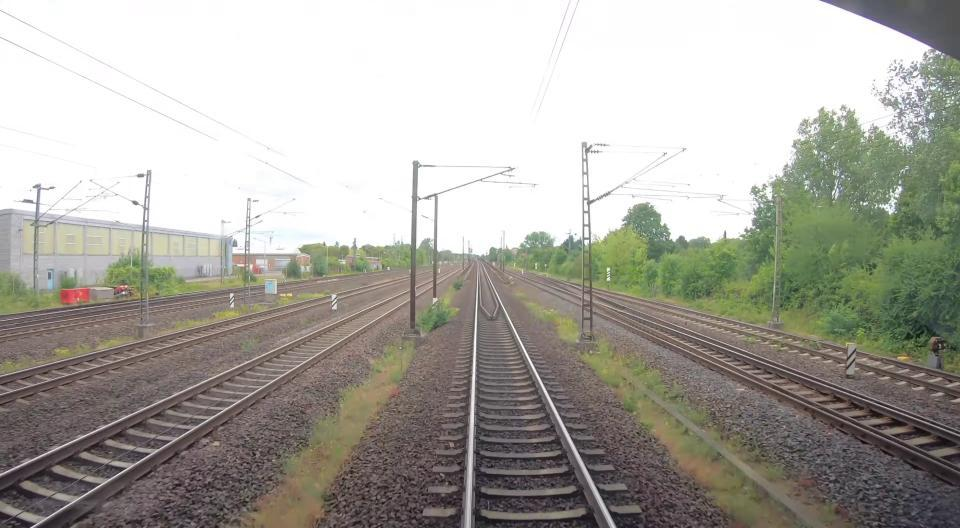Plant: (578, 338, 796, 528), (242, 343, 414, 528), (707, 424, 854, 528), (626, 355, 708, 426), (0, 334, 140, 374), (156, 303, 277, 335), (519, 293, 577, 344), (418, 300, 458, 332), (439, 278, 464, 306), (299, 294, 323, 301)
